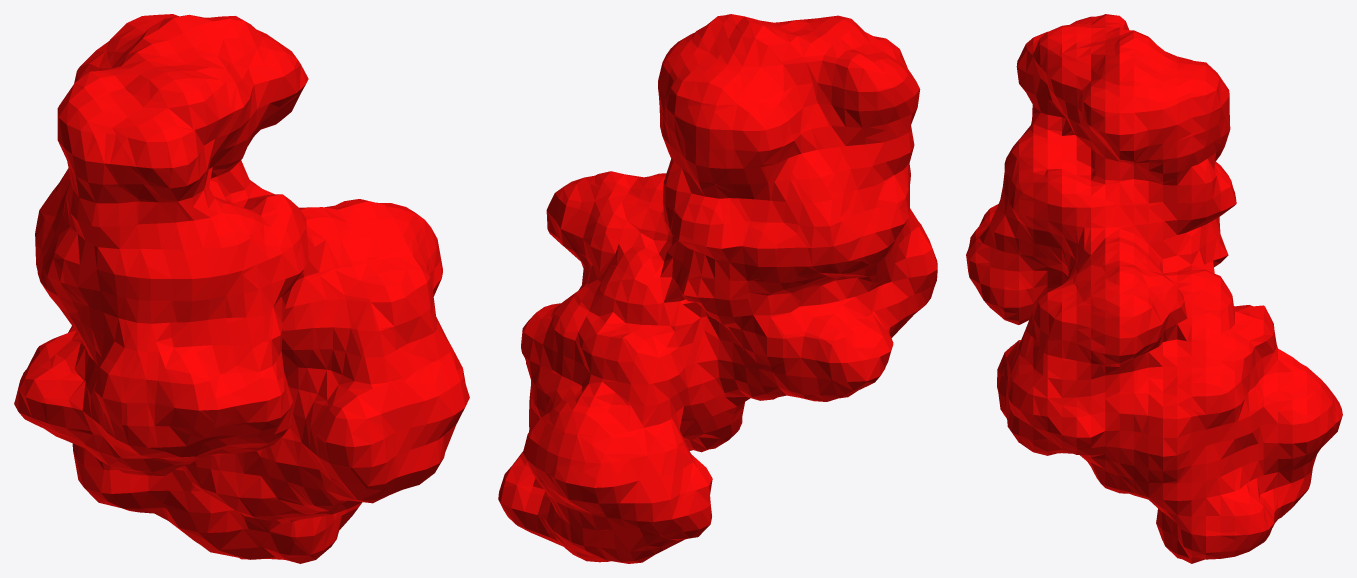
The model's file is purM_coarse.dae.
3 views of the same model, side by side, from view 1: azimuth 30°, elevation 25°; view 2: azimuth 150°, elevation 25°; view 3: azimuth 270°, elevation 25° (orthographic). The views are drawn at different scales.
Parts seen in each view (by area): view 1: purM; view 2: purM; view 3: purM.
Part boxes in pixels (left/top/right/bottom): purM: left=14, top=14, right=469, bottom=563; purM: left=498, top=14, right=937, bottom=563; purM: left=966, top=14, right=1342, bottom=563.
Size of the model in its own units: 85.65 by 125 by 90.49.
